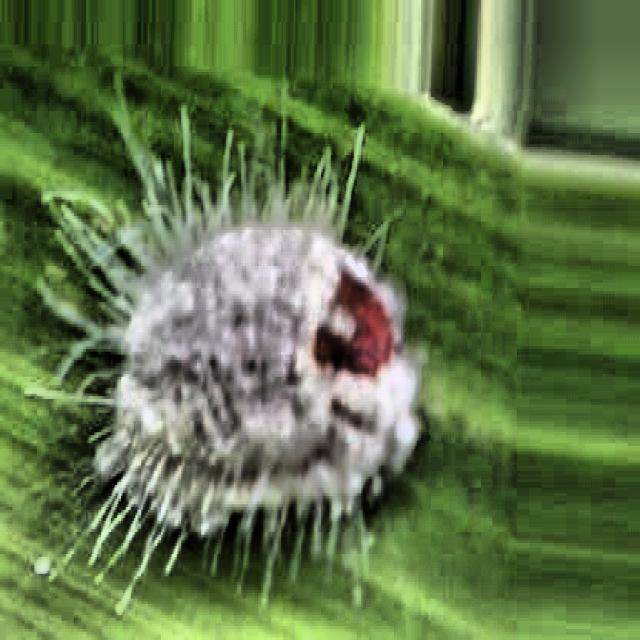Mealy-bug: (41, 89, 454, 595)
